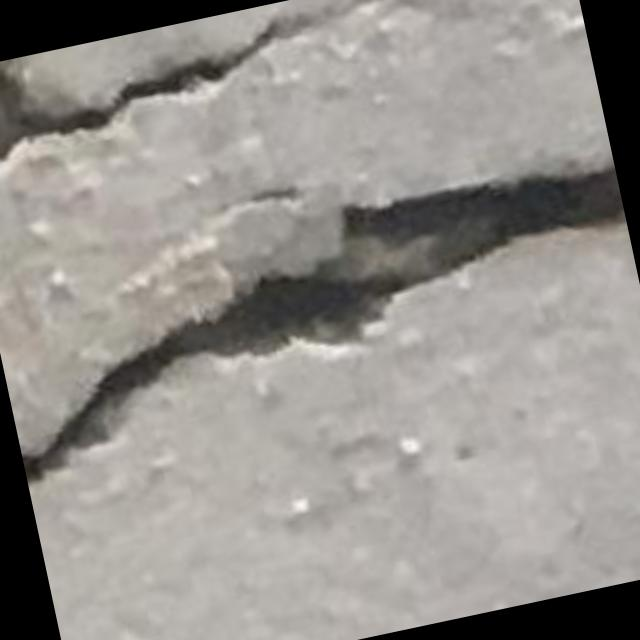crack: (22, 164, 626, 480)
